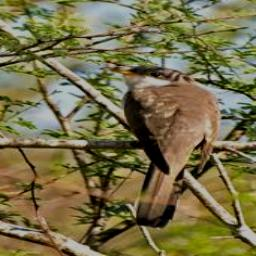Cuckoo: (100, 65, 223, 227)
